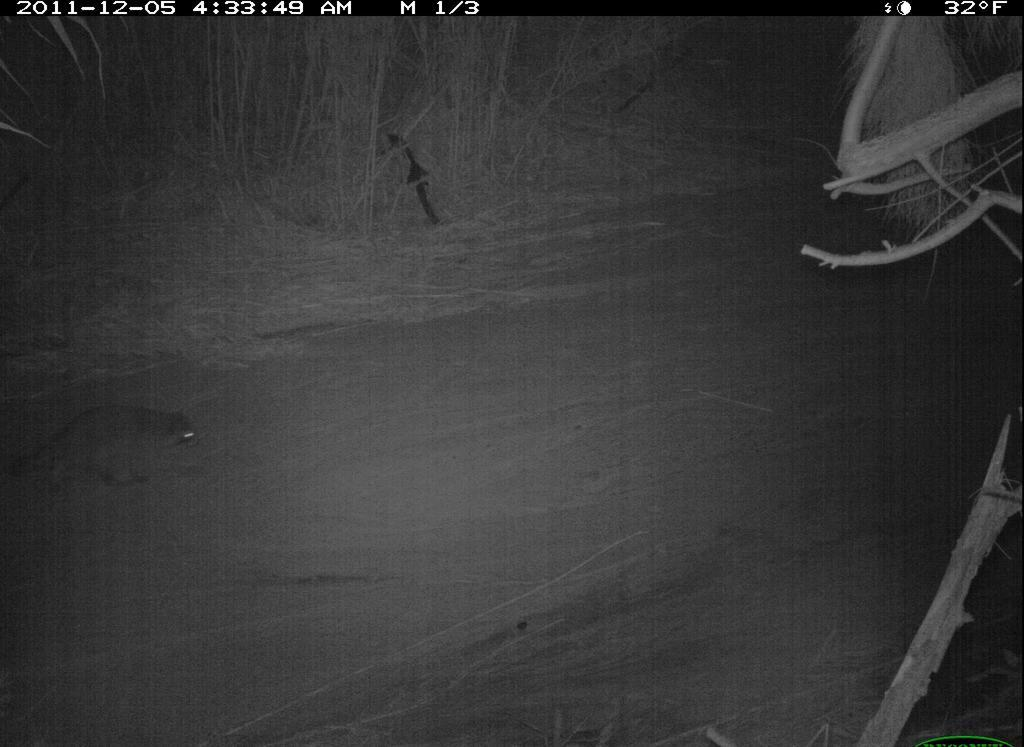raccoon: (11, 385, 207, 518)
